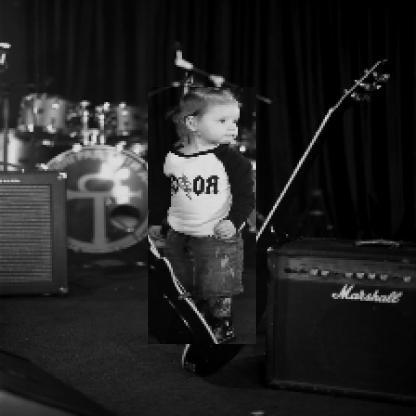child: (149, 89, 258, 347)
